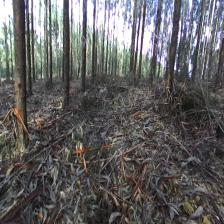trunk: (12, 8, 28, 144), (165, 9, 180, 87), (148, 6, 162, 86), (62, 16, 70, 106), (137, 8, 146, 80), (80, 20, 87, 92), (49, 18, 53, 82), (92, 20, 95, 78)
